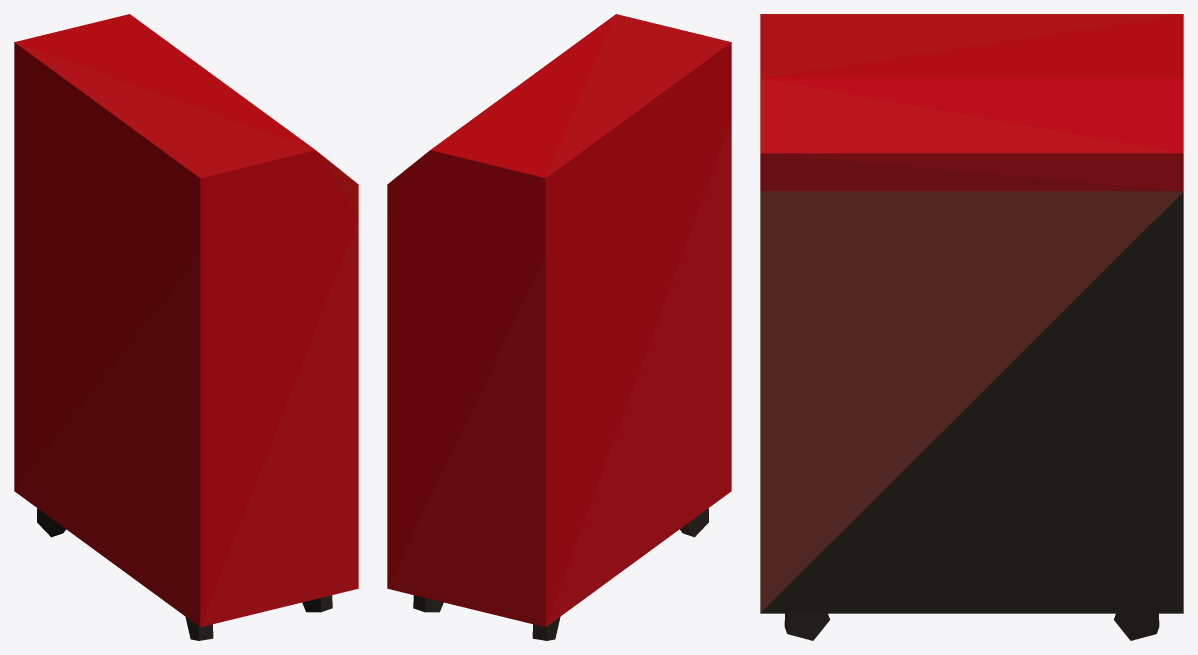
File: hs_tool_cabinet.glb
3 views of the same model, side by side, from view 1: azimuth 30°, elevation 25°; view 2: azimuth 150°, elevation 25°; view 3: azimuth 270°, elevation 25° (orthographic). The views are drawn at different scales.
Parts seen in each view (by area): view 1: Tool_Cabinet; view 2: Tool_Cabinet; view 3: Tool_Cabinet.
Boxes of the visible parts, left/top/right/bottom form: Tool_Cabinet: left=14, top=14, right=358, bottom=640; Tool_Cabinet: left=387, top=14, right=731, bottom=640; Tool_Cabinet: left=760, top=14, right=1183, bottom=640.
Bounding box in the file's own units: 0.4941 × 1.44 × 1.
